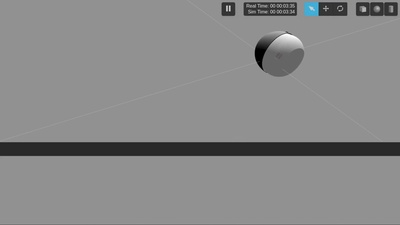mira_robot: (254, 30, 305, 77)
